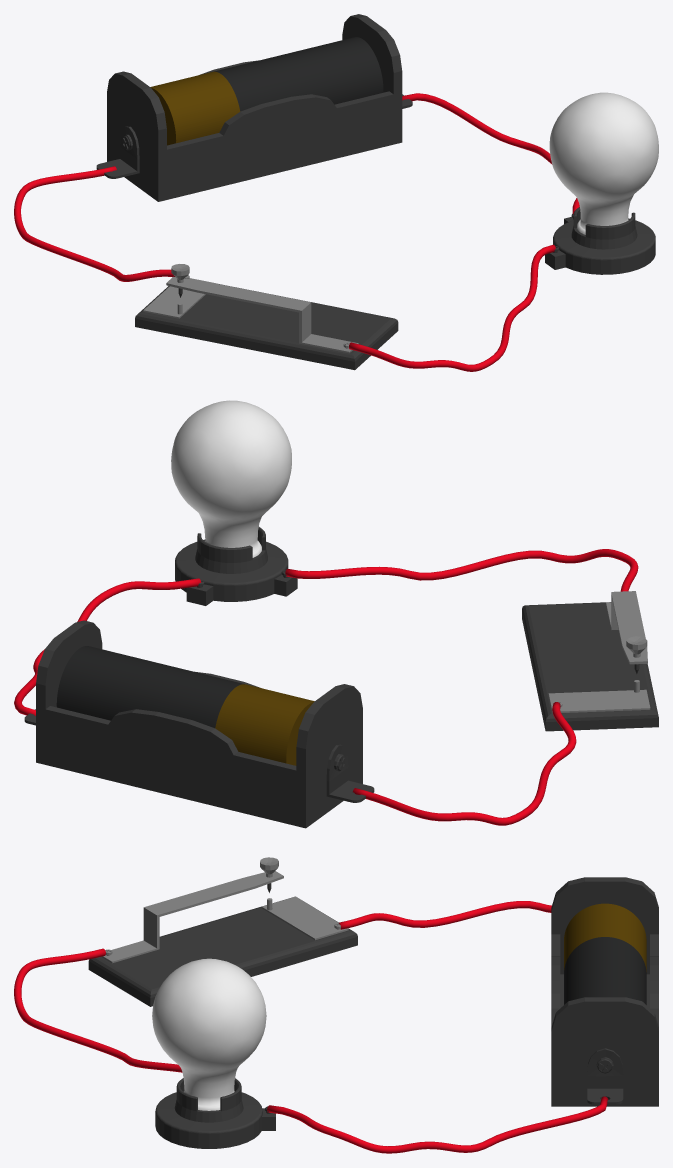
File: Circuit.fbx
The picture shows the model from 3 angles, top to bottom: view 1: azimuth 30°, elevation 25°; view 2: azimuth 150°, elevation 25°; view 3: azimuth 270°, elevation 25°; orthographic projection. The views are drawn at different scales.
Visible parts, largest first — view 1: BatteryChasis, Switch, Battery, Bulb, BulbHousing, Wire, Wire.001, Wire.002; view 2: BatteryChasis, Switch, Battery, Bulb, BulbHousing, Wire.001, Wire, Wire.002; view 3: BatteryChasis, Switch, Bulb, Battery, BulbHousing, Wire.002, Wire.001, Wire.
Boxes of the visible parts, x1,y1,x2,y2 form: BatteryChasis: [96, 14, 412, 201]; Switch: [135, 264, 398, 370]; Battery: [150, 37, 383, 145]; Bulb: [549, 92, 658, 234]; BulbHousing: [545, 207, 655, 274]; Wire: [14, 166, 174, 281]; Wire.001: [349, 244, 555, 371]; Wire.002: [402, 93, 579, 214]; BatteryChasis: [24, 620, 374, 828]; Switch: [522, 591, 658, 731]; Battery: [56, 646, 314, 765]; Bulb: [171, 400, 291, 557]; BulbHousing: [175, 527, 297, 605]; Wire.001: [285, 549, 638, 591]; Wire: [353, 702, 576, 825]; Wire.002: [14, 578, 201, 715]; BatteryChasis: [551, 877, 658, 1106]; Switch: [88, 857, 357, 1006]; Bulb: [152, 958, 266, 1110]; Battery: [564, 903, 646, 1004]; BulbHousing: [155, 1078, 275, 1148]; Wire.002: [267, 1096, 608, 1153]; Wire.001: [14, 948, 182, 1072]; Wire: [339, 901, 551, 929].
Size of the model in its own units: 1093 by 335 by 1200.
